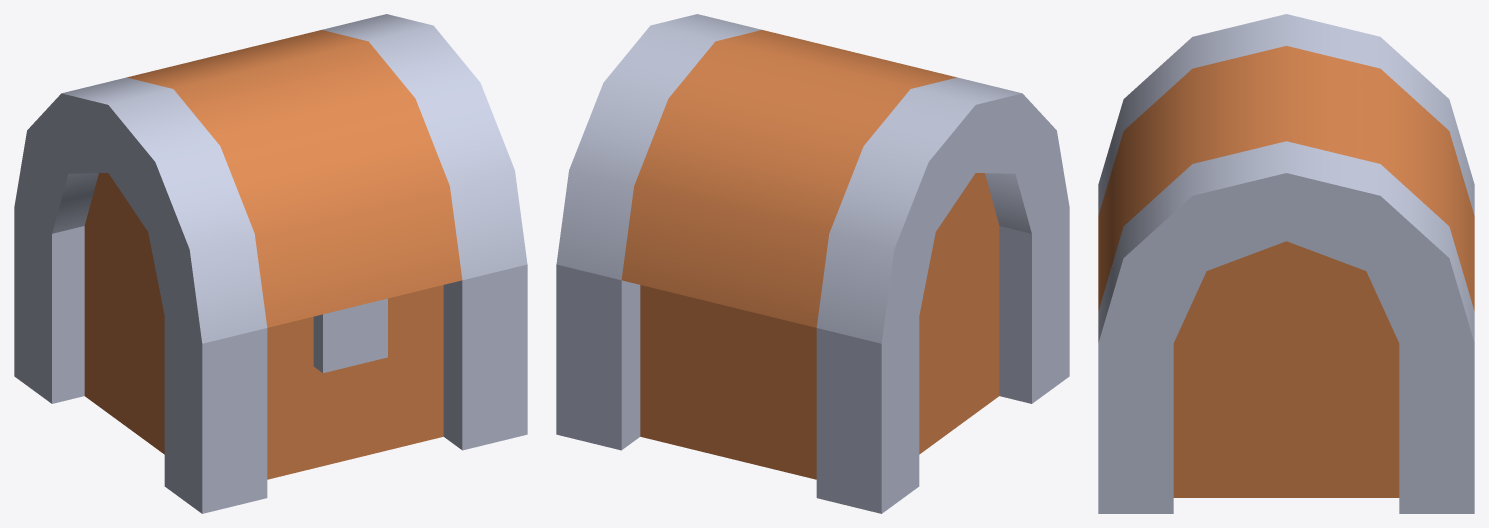
File: chest.fbx
The picture shows the model from 3 angles, left to right: view 1: azimuth 30°, elevation 25°; view 2: azimuth 150°, elevation 25°; view 3: azimuth 270°, elevation 25°; orthographic projection.
Parts seen in each view (by area): view 1: lid, chest; view 2: lid, chest; view 3: lid, chest.
Part boxes in pixels (<box>): lid: <box>14,14,527,343</box>; chest: <box>14,206,527,513</box>; lid: <box>556,14,1069,343</box>; chest: <box>556,206,1069,513</box>; lid: <box>1098,14,1474,343</box>; chest: <box>1098,327,1474,513</box>.
Size of the model in its own units: 5 by 5 by 5.
